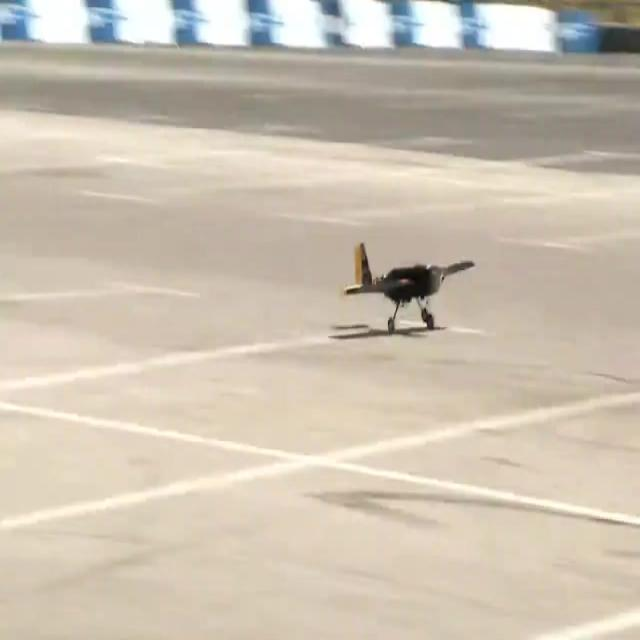iha: (341, 270, 473, 304)
